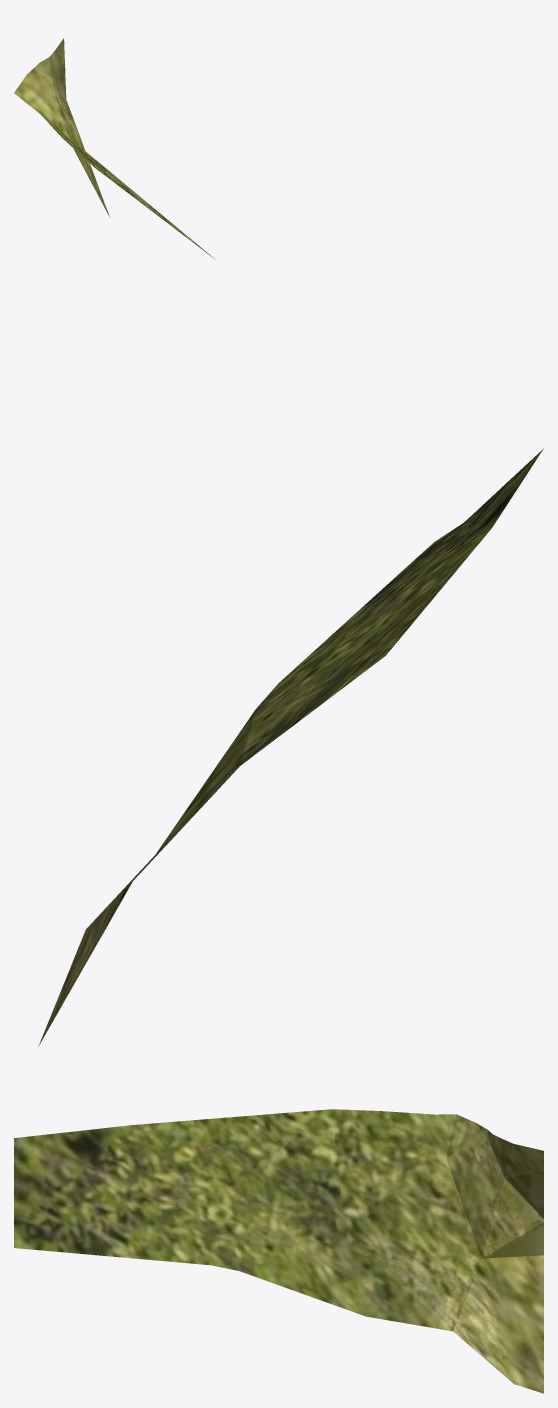
3 views of the same model, one above another, from view 1: azimuth 30°, elevation 25°; view 2: azimuth 150°, elevation 25°; view 3: azimuth 270°, elevation 25° (orthographic). The views are drawn at different scales.
Size of the model in its own units: 0.8262 by 1.36 by 2.95.
1 material, 1 textured.
